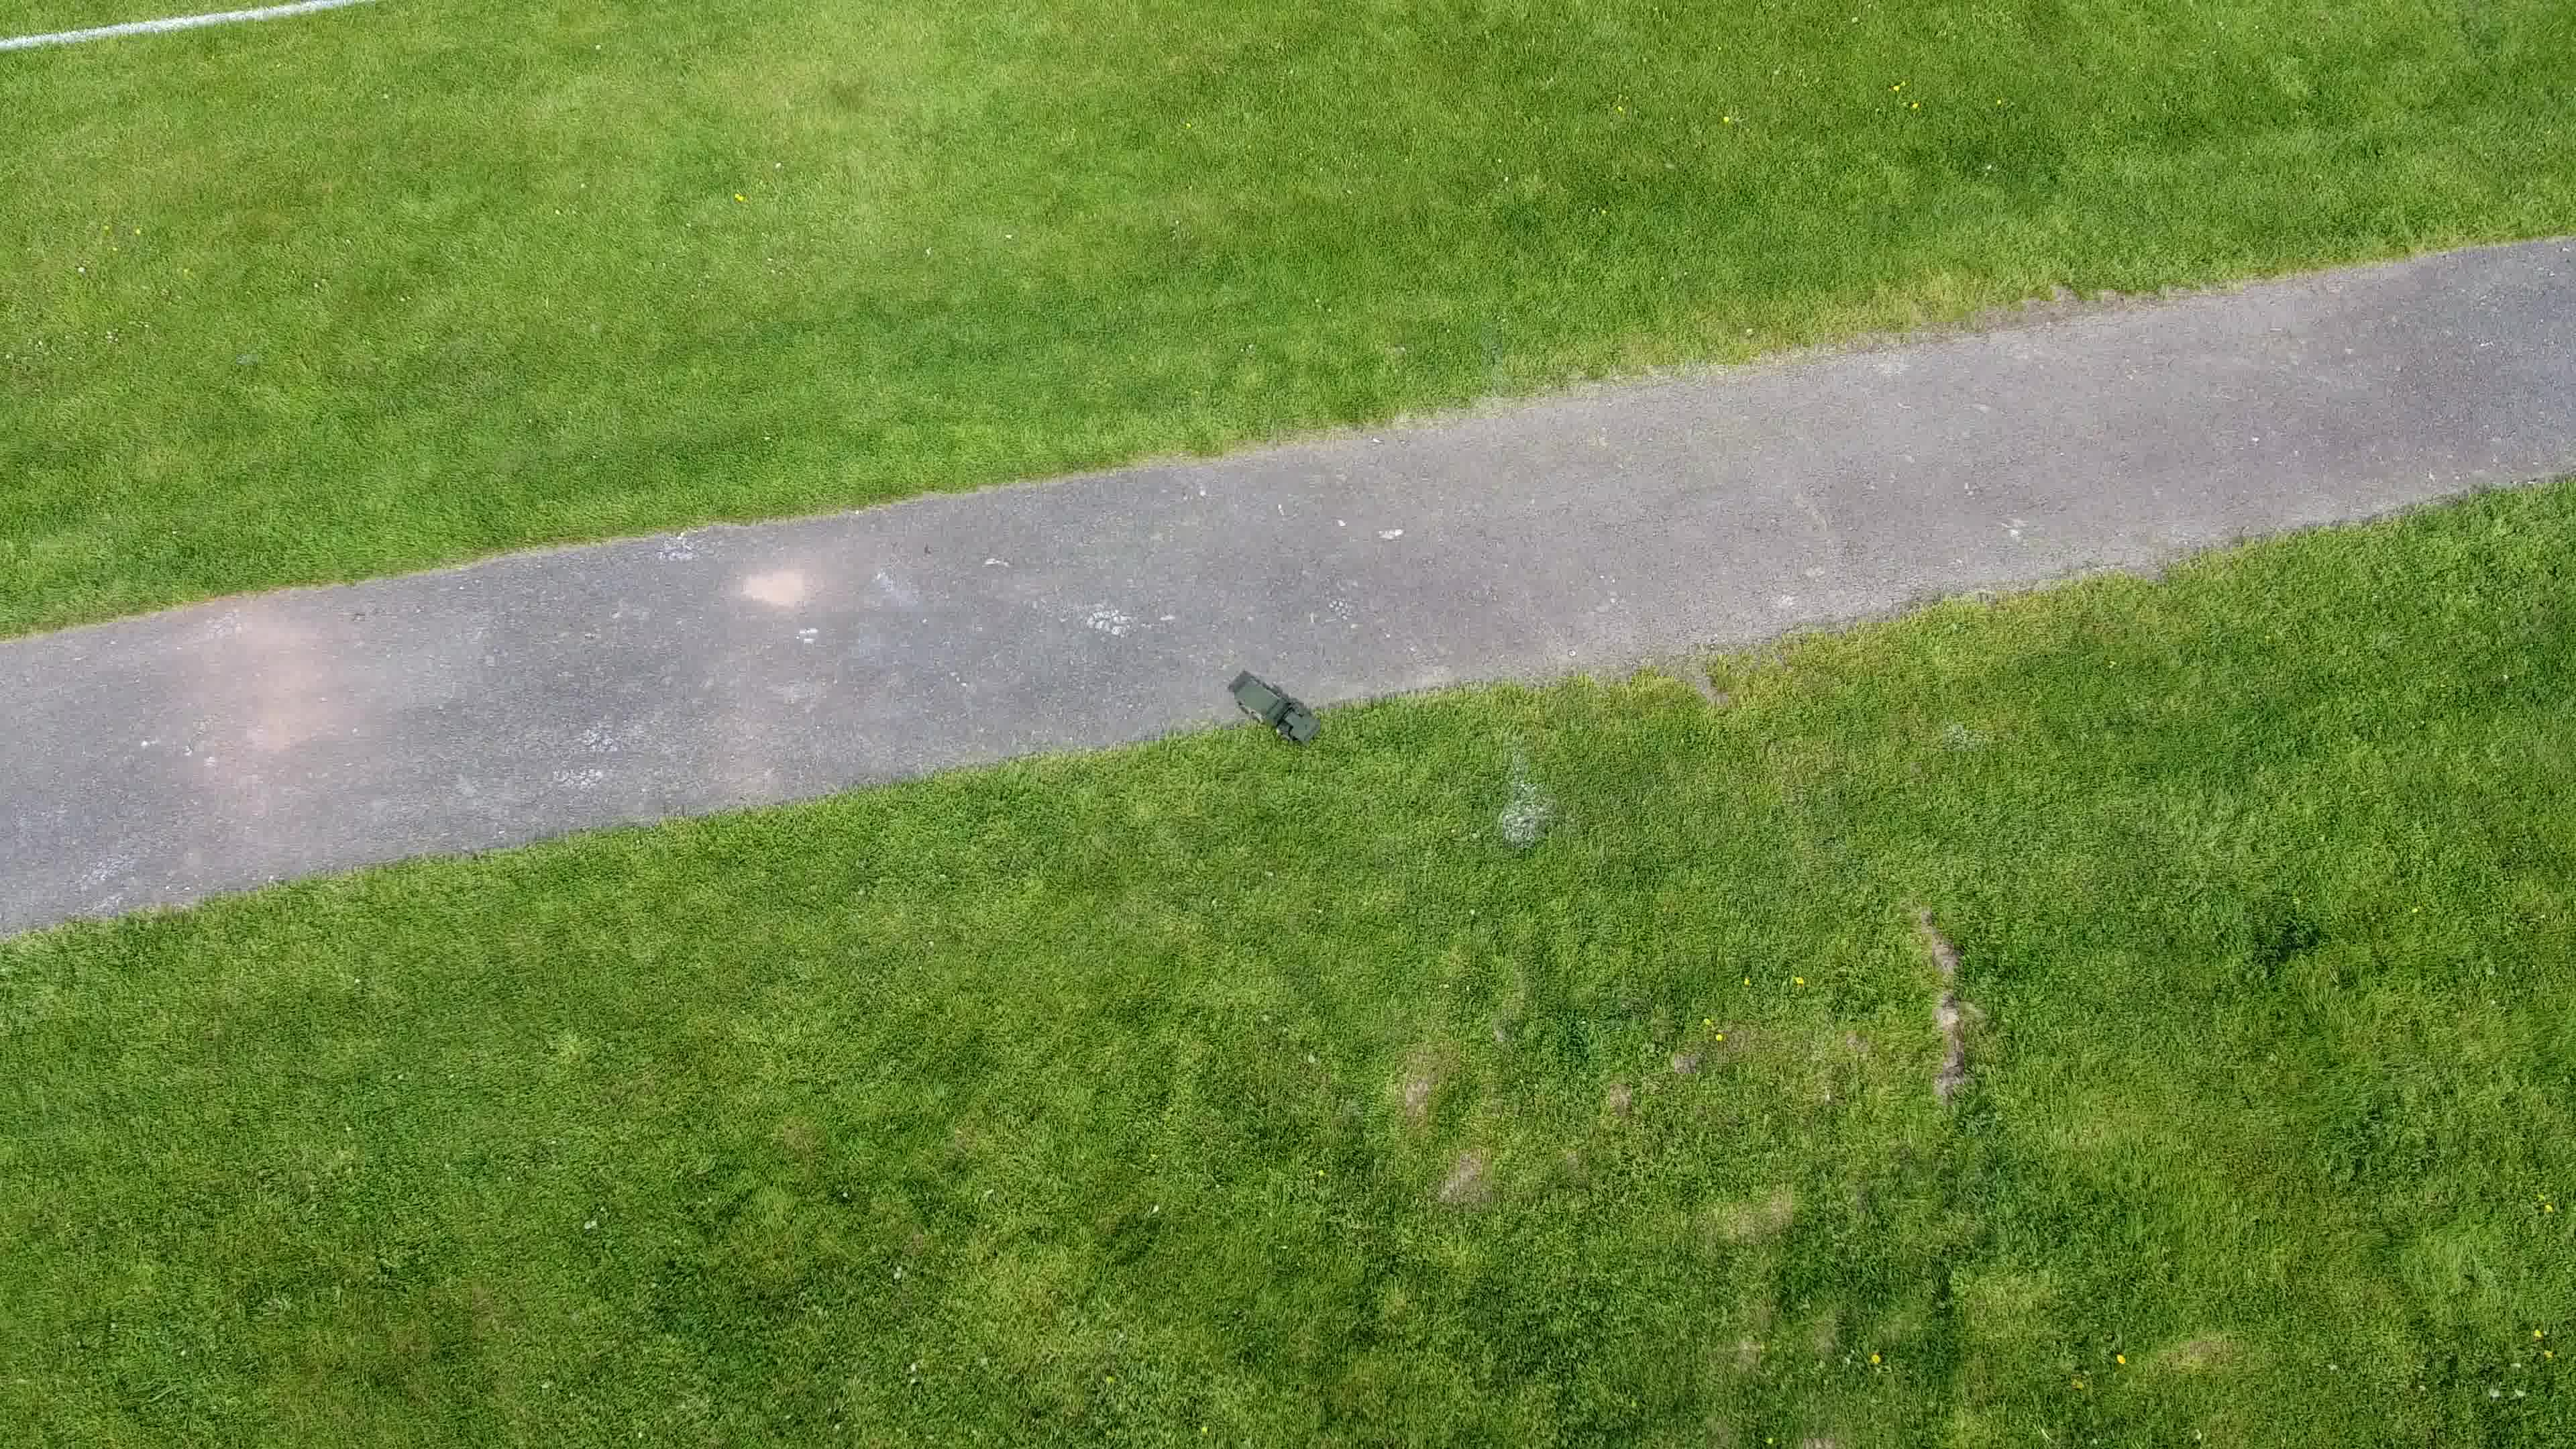transporter9: (1228, 671, 1323, 747)
